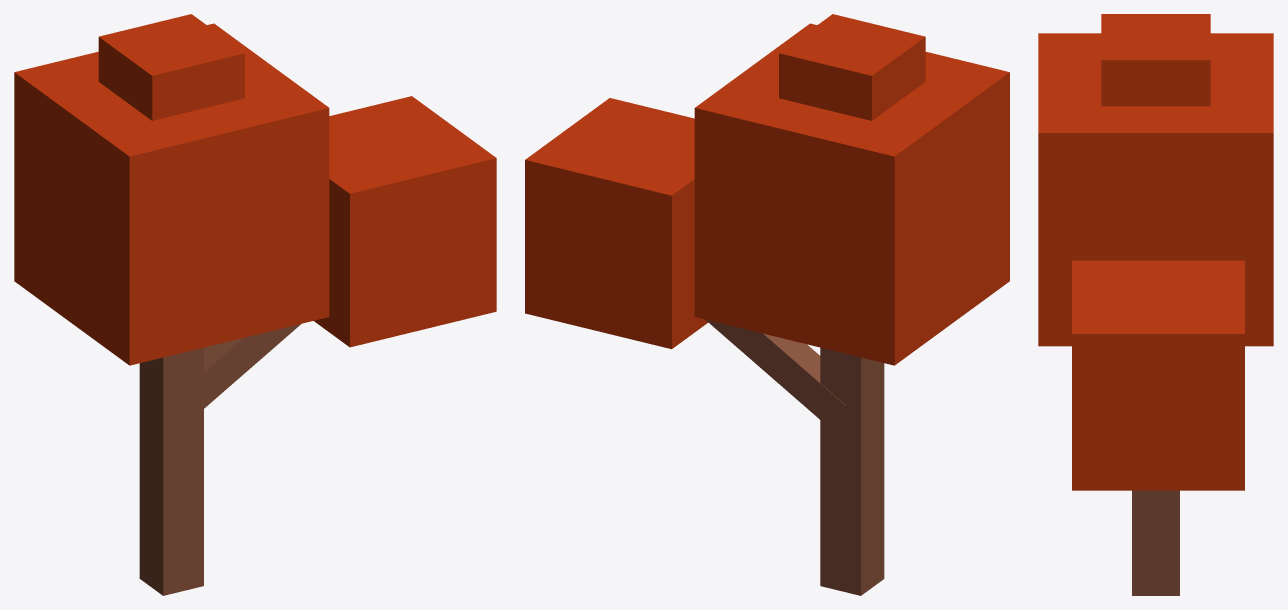
Rendered from Tree_48_summer_red_mat.fbx.
3 renders of one model, left to right at view 1: azimuth 30°, elevation 25°; view 2: azimuth 150°, elevation 25°; view 3: azimuth 270°, elevation 25°, orthographic. The views are drawn at different scales.
Visible parts, largest first — view 1: Tree_48_summer_red_mat; view 2: Tree_48_summer_red_mat; view 3: Tree_48_summer_red_mat.
Part boxes in pixels (x1,y1,x2,y2): Tree_48_summer_red_mat: (14,14,496,595); Tree_48_summer_red_mat: (525,14,1009,595); Tree_48_summer_red_mat: (1038,14,1273,595).
Bounding box in the file's own units: 140 × 187 × 72.7.
